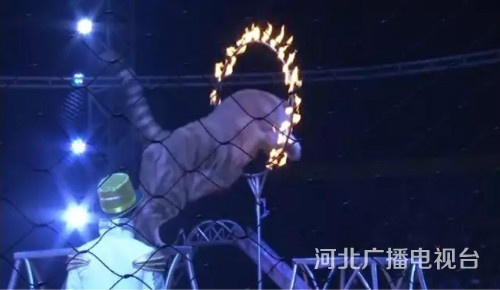fire: (210, 19, 306, 168)
